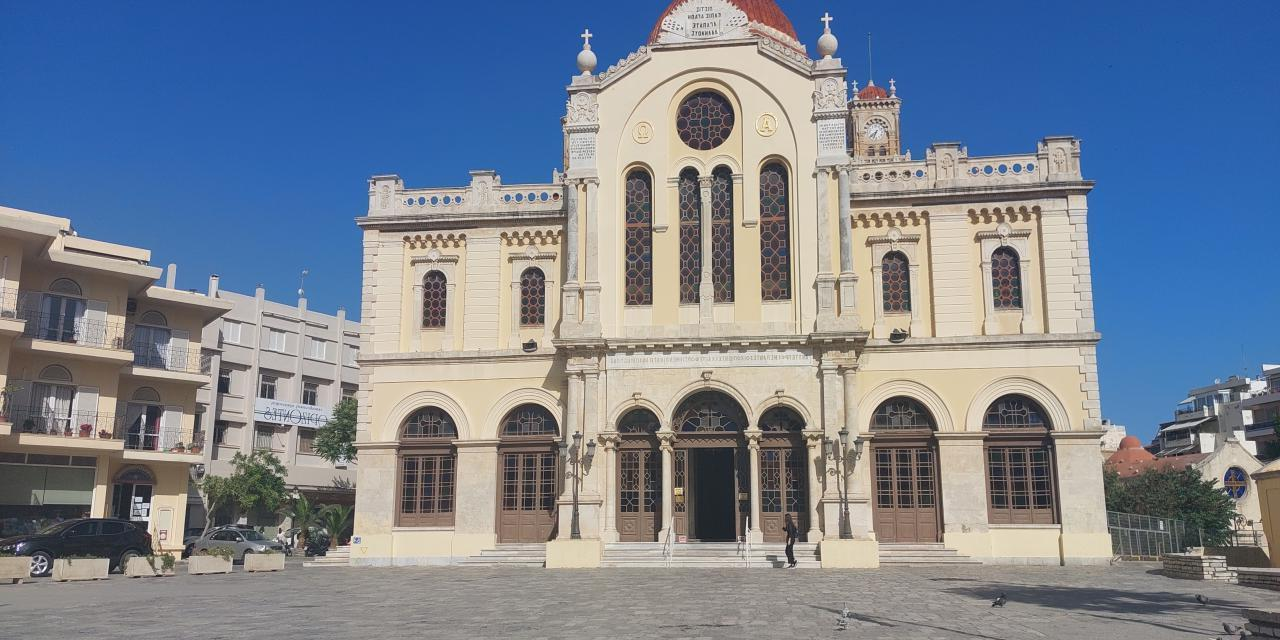Agios Minas: (339, 1, 1116, 565)
